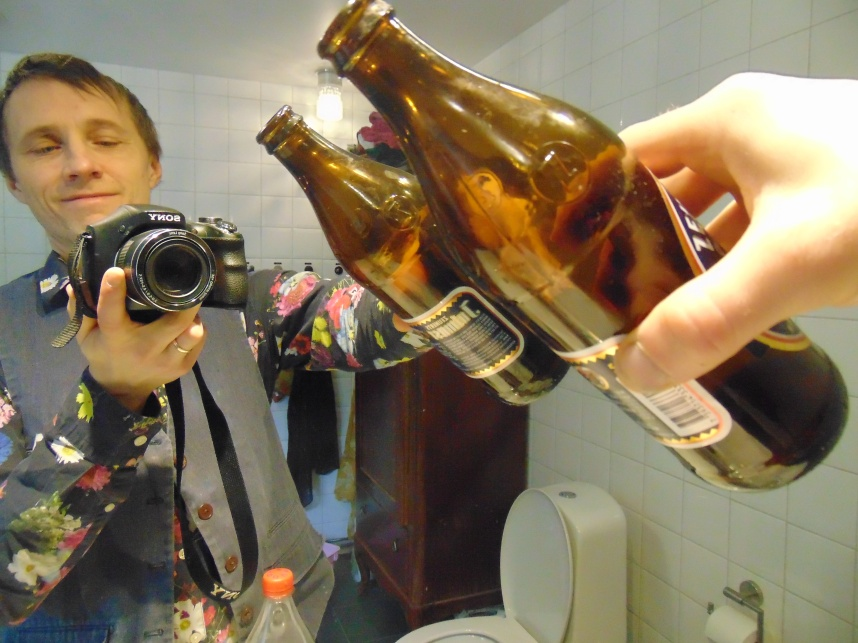glass_bottle: (316, 1, 849, 494), (257, 103, 573, 406)
plastic_bottle: (238, 568, 315, 643)
